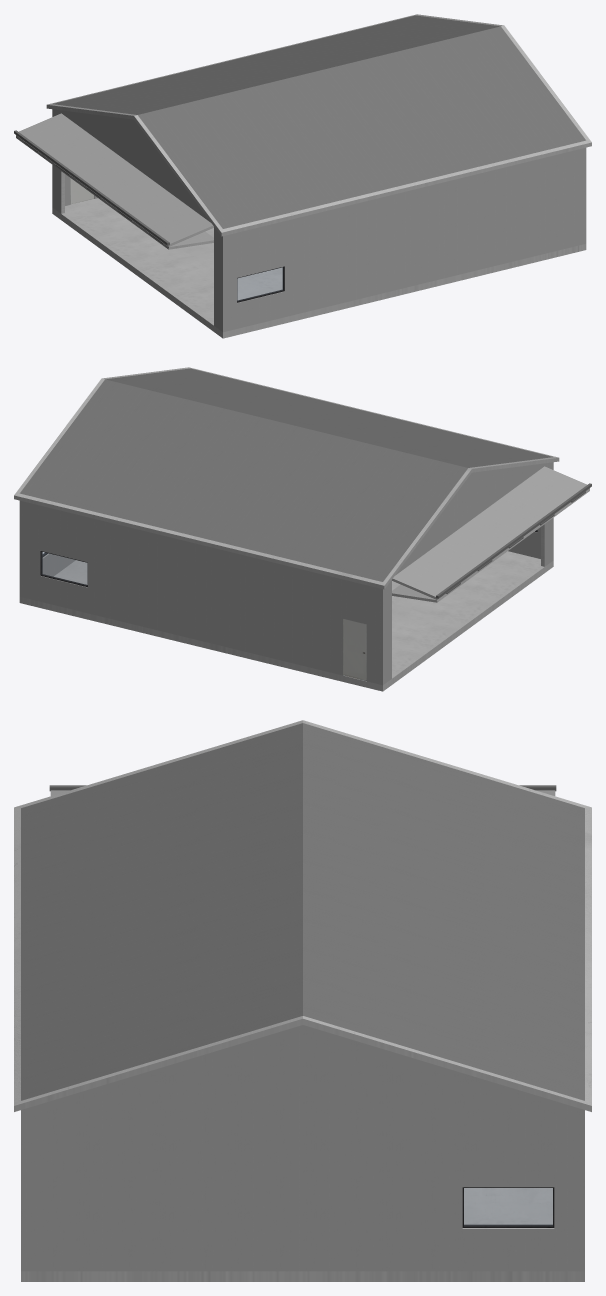
Rendered from gen_open_hangar06-12x15x4-cbj_LOD01.gltf.
3 views of the same model, one above another, from view 1: azimuth 30°, elevation 25°; view 2: azimuth 150°, elevation 25°; view 3: azimuth 270°, elevation 25° (orthographic). The views are drawn at different scales.
Parts seen in each view (by area): view 1: Cube.020; view 2: Cube.020; view 3: Cube.020.
Part boxes in pixels (x1,y1,x2,y2): Cube.020: [14, 14, 591, 338]; Cube.020: [14, 367, 591, 691]; Cube.020: [14, 720, 591, 1281].
Size of the model in its own units: 17.2 by 6.4 by 12.6.
